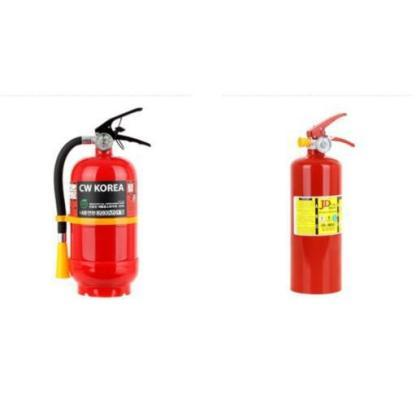Fire Extinguisher: (48, 92, 160, 318), (280, 103, 370, 309)
